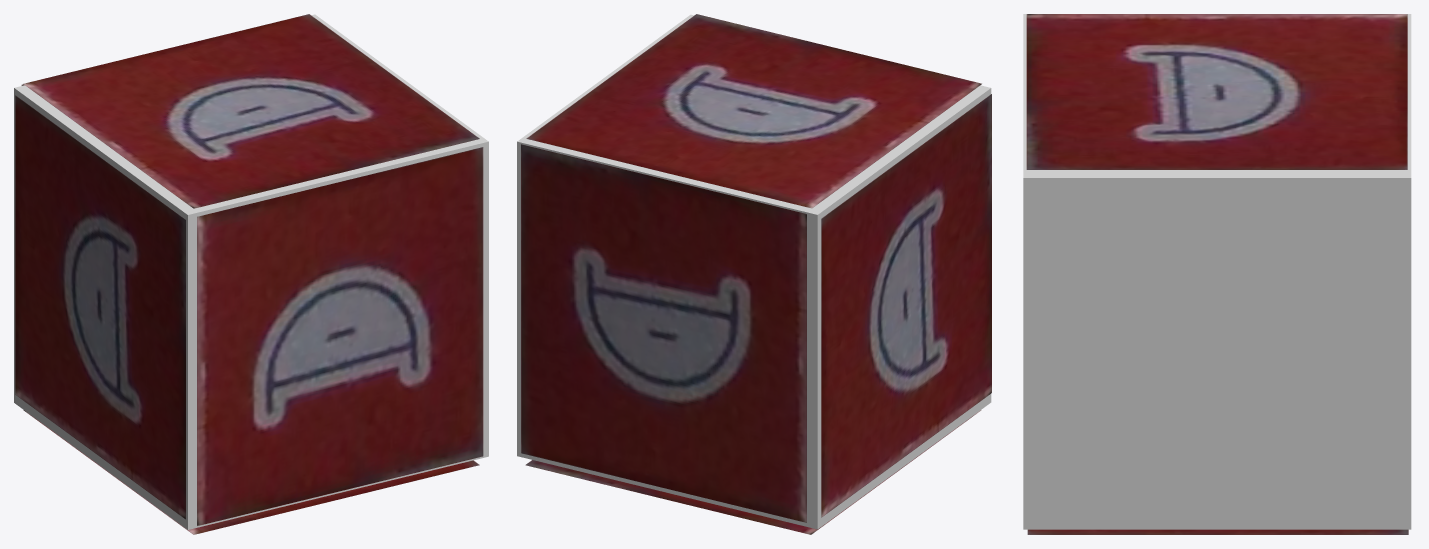
The picture shows the model from 3 angles, left to right: view 1: azimuth 30°, elevation 25°; view 2: azimuth 150°, elevation 25°; view 3: azimuth 270°, elevation 25°; orthographic projection. The views are drawn at different scales.
Visible parts, largest first — view 1: fake2.png.005, fake2.png.001, fake2.png.003, Link35, fake2.png.004; view 2: fake2.png.002, fake2.png.001, fake2.png.003, Link35, fake2.png.004; view 3: Link35, fake2.png.003, fake2.png.004.
Boxes of the visible parts, left/top/right/bottom form: fake2.png.005: left=197, top=147, right=483, bottom=525; fake2.png.001: left=15, top=95, right=185, bottom=519; fake2.png.003: left=23, top=14, right=479, bottom=208; Link35: left=14, top=14, right=488, bottom=529; fake2.png.004: left=23, top=410, right=479, bottom=534; fake2.png.002: left=521, top=144, right=806, bottom=522; fake2.png.001: left=821, top=94, right=991, bottom=517; fake2.png.003: left=526, top=14, right=981, bottom=208; Link35: left=517, top=14, right=991, bottom=529; fake2.png.004: left=525, top=410, right=981, bottom=534; Link35: left=1023, top=14, right=1411, bottom=529; fake2.png.003: left=1026, top=14, right=1407, bottom=169; fake2.png.004: left=1027, top=529, right=1408, bottom=534.
Size of the model in its own units: 0.3515 by 0.3561 by 0.3629.
1 material, 1 textured.
